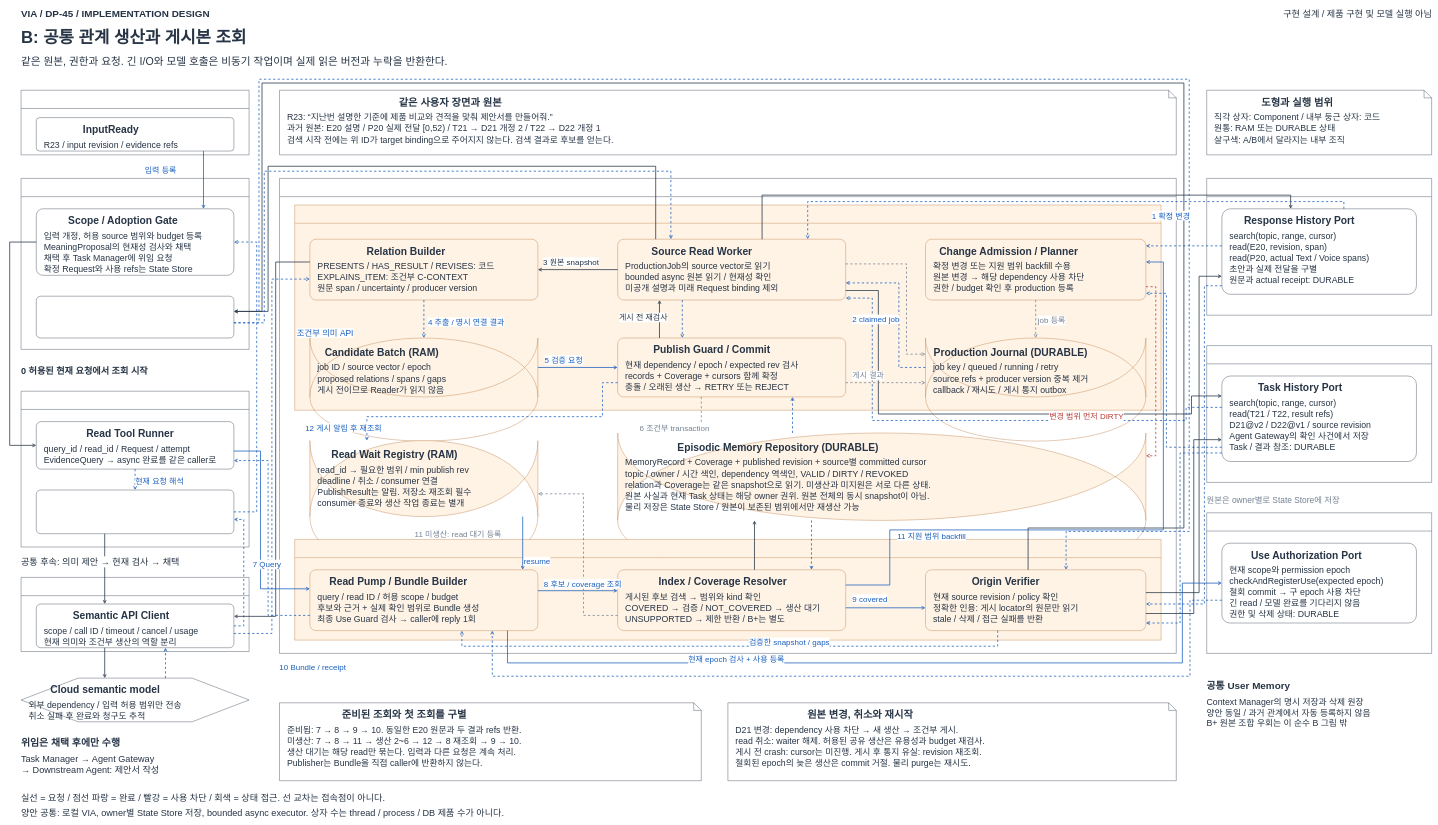
Some shapes in this 1438 by 825 pixel diagram are drawn without their labels. Here are the shapes that lost their labels. From the top down, the box of each, then its label:
(21, 90, 249, 155): Interaction Manager
(21, 178, 249, 349): Request Controller
(1206, 178, 1432, 315): Response Manager
(36, 296, 234, 338): History Read Port 주제 / 입력 / 채택 정정의 검색과 읽기 명시 REVISES / 당시 revision 반환
(294, 205, 1161, 410): Memory Publisher / 현재 요청과 독립적인 생산 수명
(279, 178, 1176, 653): Context Manager
(1206, 345, 1432, 482): Task Manager
(21, 391, 249, 547): Request Interpreter
(36, 490, 234, 534): Current Meaning Job Bundle로 현재 목표와 Task 연결 제안 추가 읽기 또는 질문 / 자동 채택 아님
(294, 539, 1161, 640): Evidence Reader / 현재 read 수명
(1206, 512, 1432, 653): Policy Manager
(21, 577, 249, 652): Model Access
